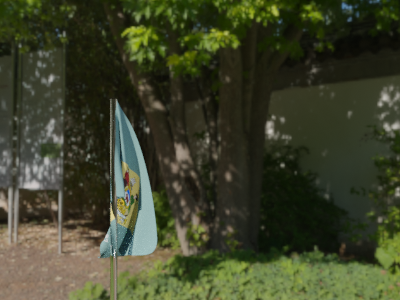Delaware flag: (99, 98, 160, 261)
